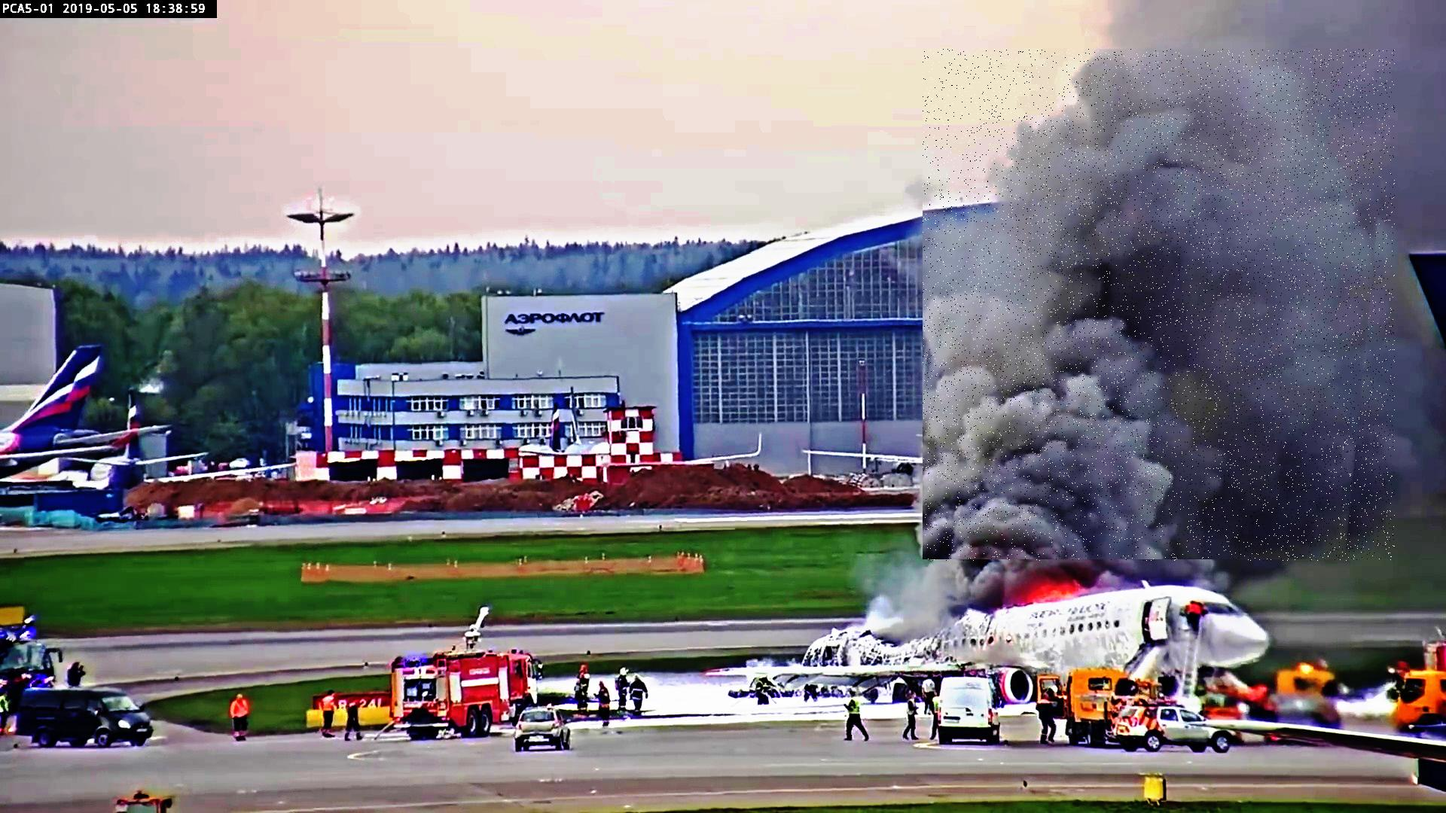smoke: (923, 50, 1395, 562)
